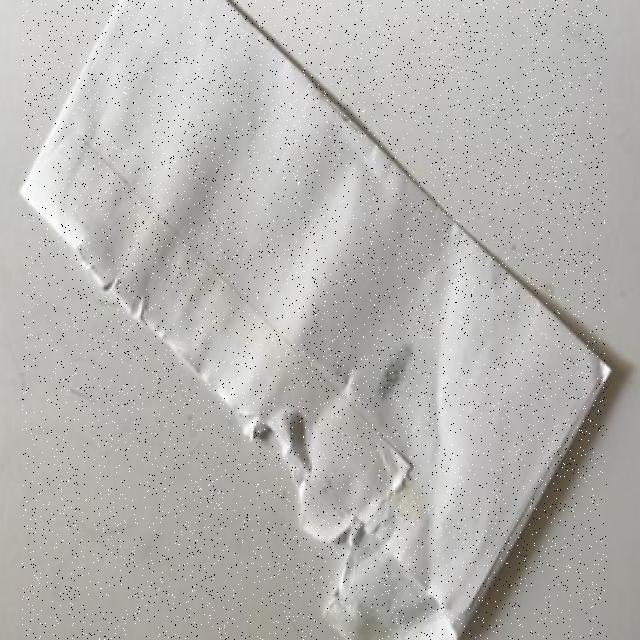paper: (22, 0, 607, 640)
